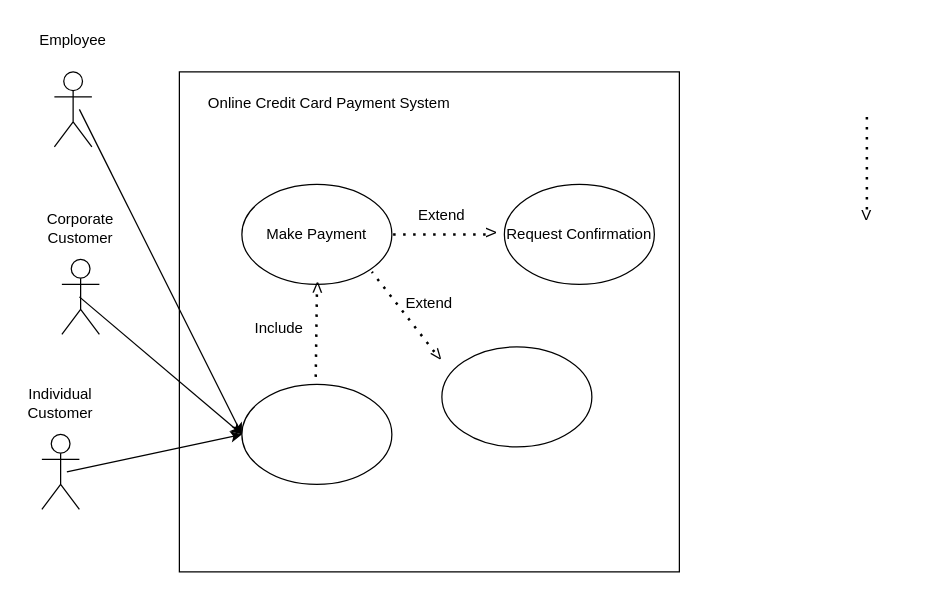
The diagram is 925 pixels wide and 594 high, and some of its shapes have lost their labels. The centre of each missing label's shape, as x and y in pixels:
"Apply Discount" belongs at point 516,396.
"Sign In" belongs at point 316,433.
